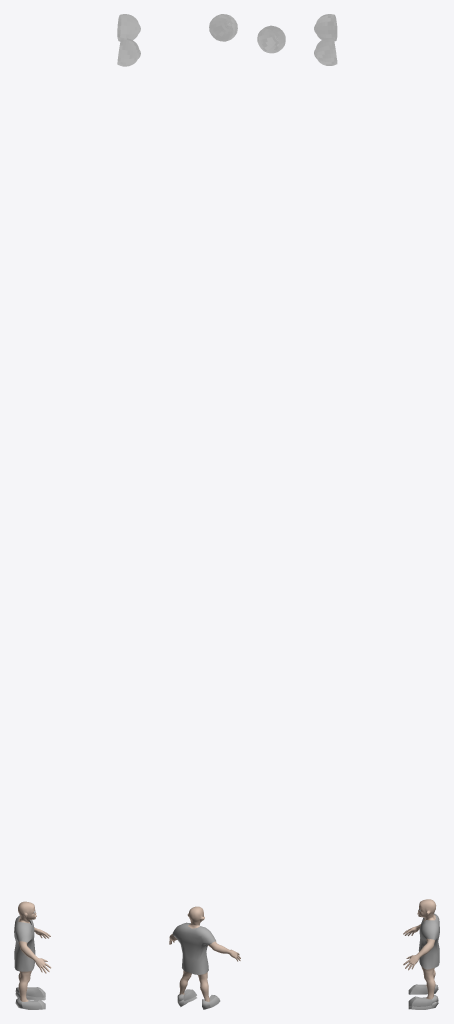
File: playerModel.fbx
3 views of the same model, side by side, from view 1: azimuth 90°, elevation 25°; view 2: azimuth 150°, elevation 25°; view 3: azimuth 270°, elevation 25° (orthographic). The views are drawn at different scales.
Visible parts, largest first — view 1: player:player, HighPolyEyes, pCube1; view 2: pCube1, HighPolyEyes, player:player; view 3: player:player, HighPolyEyes, pCube1.
Part boxes in pixels (box(x1,y1,x2,y2)): player:player: box(18, 901, 51, 1001); HighPolyEyes: box(117, 14, 140, 66); pCube1: box(14, 915, 35, 971); pCube1: box(172, 922, 216, 974); HighPolyEyes: box(209, 14, 285, 53); player:player: box(169, 906, 240, 1001); player:player: box(403, 899, 436, 999); HighPolyEyes: box(314, 14, 337, 65); pCube1: box(418, 913, 439, 969).
Bounding box in the file's own units: 10.49 × 128 × 15.02.
